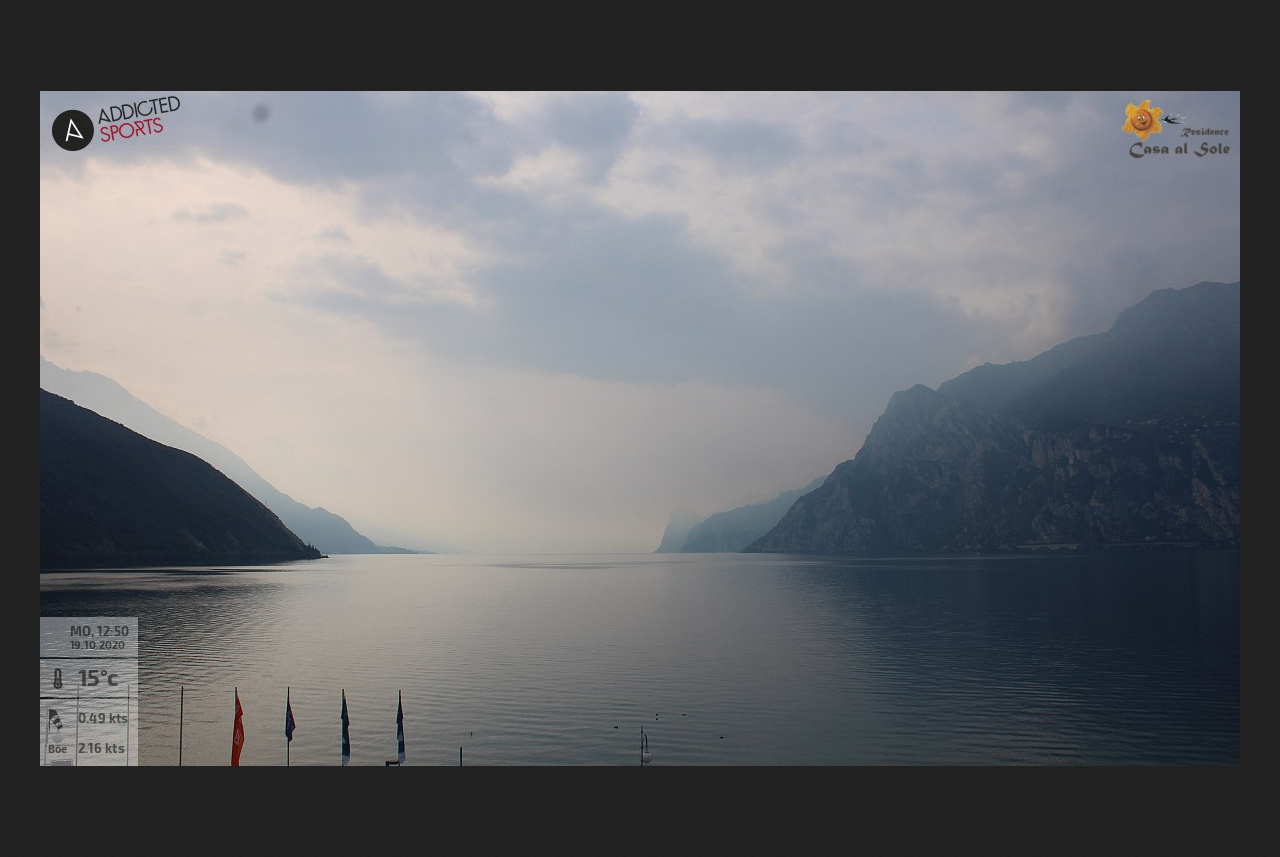no: (231, 698, 245, 765), (340, 692, 353, 762), (395, 698, 409, 760), (285, 697, 295, 743)
